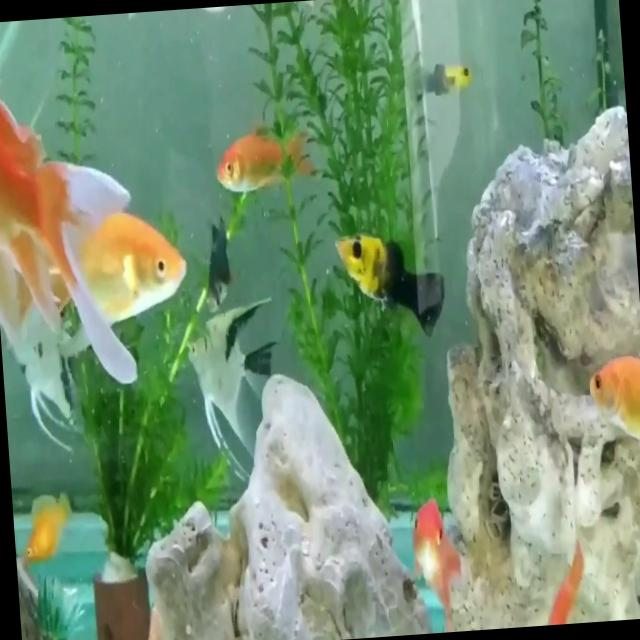GoldFish: (4, 201, 198, 369), (398, 489, 478, 628), (210, 126, 320, 203), (587, 350, 640, 448)
